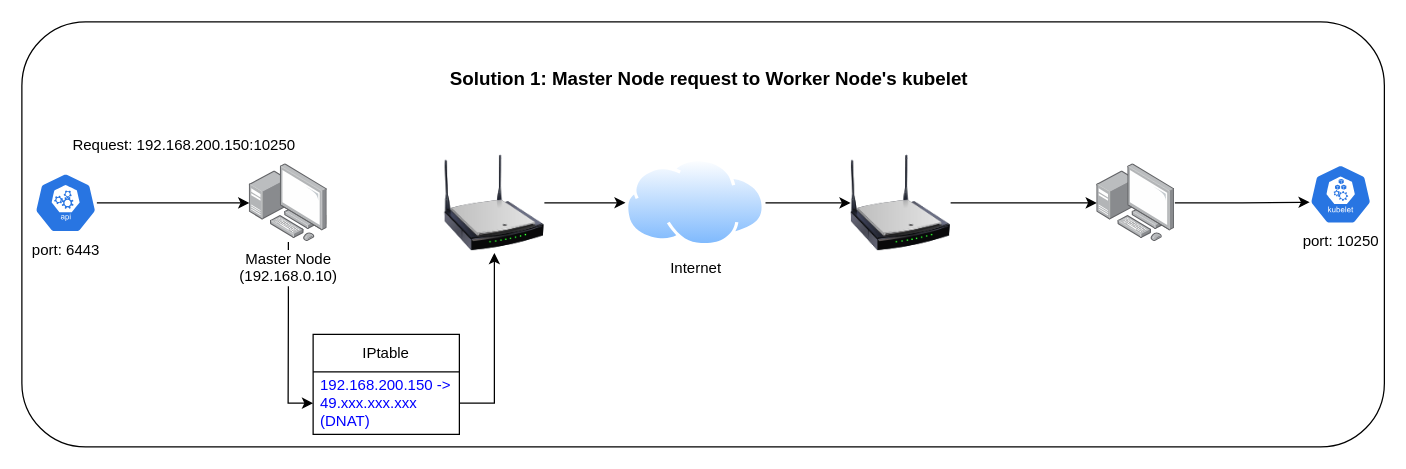
Some shapes in this 1406 by 469 pixel diagram are drawn without their labels. Each missing label, with the box of its shape:
Master Node Side Router (183.xxx.xxx.xxx): (444, 152, 544, 252)
Worker Node (192.168.200.150): (1096, 163, 1174, 241)
Worker Node Side Router (49.xxx.xxx.xxx): (850, 152, 950, 252)
